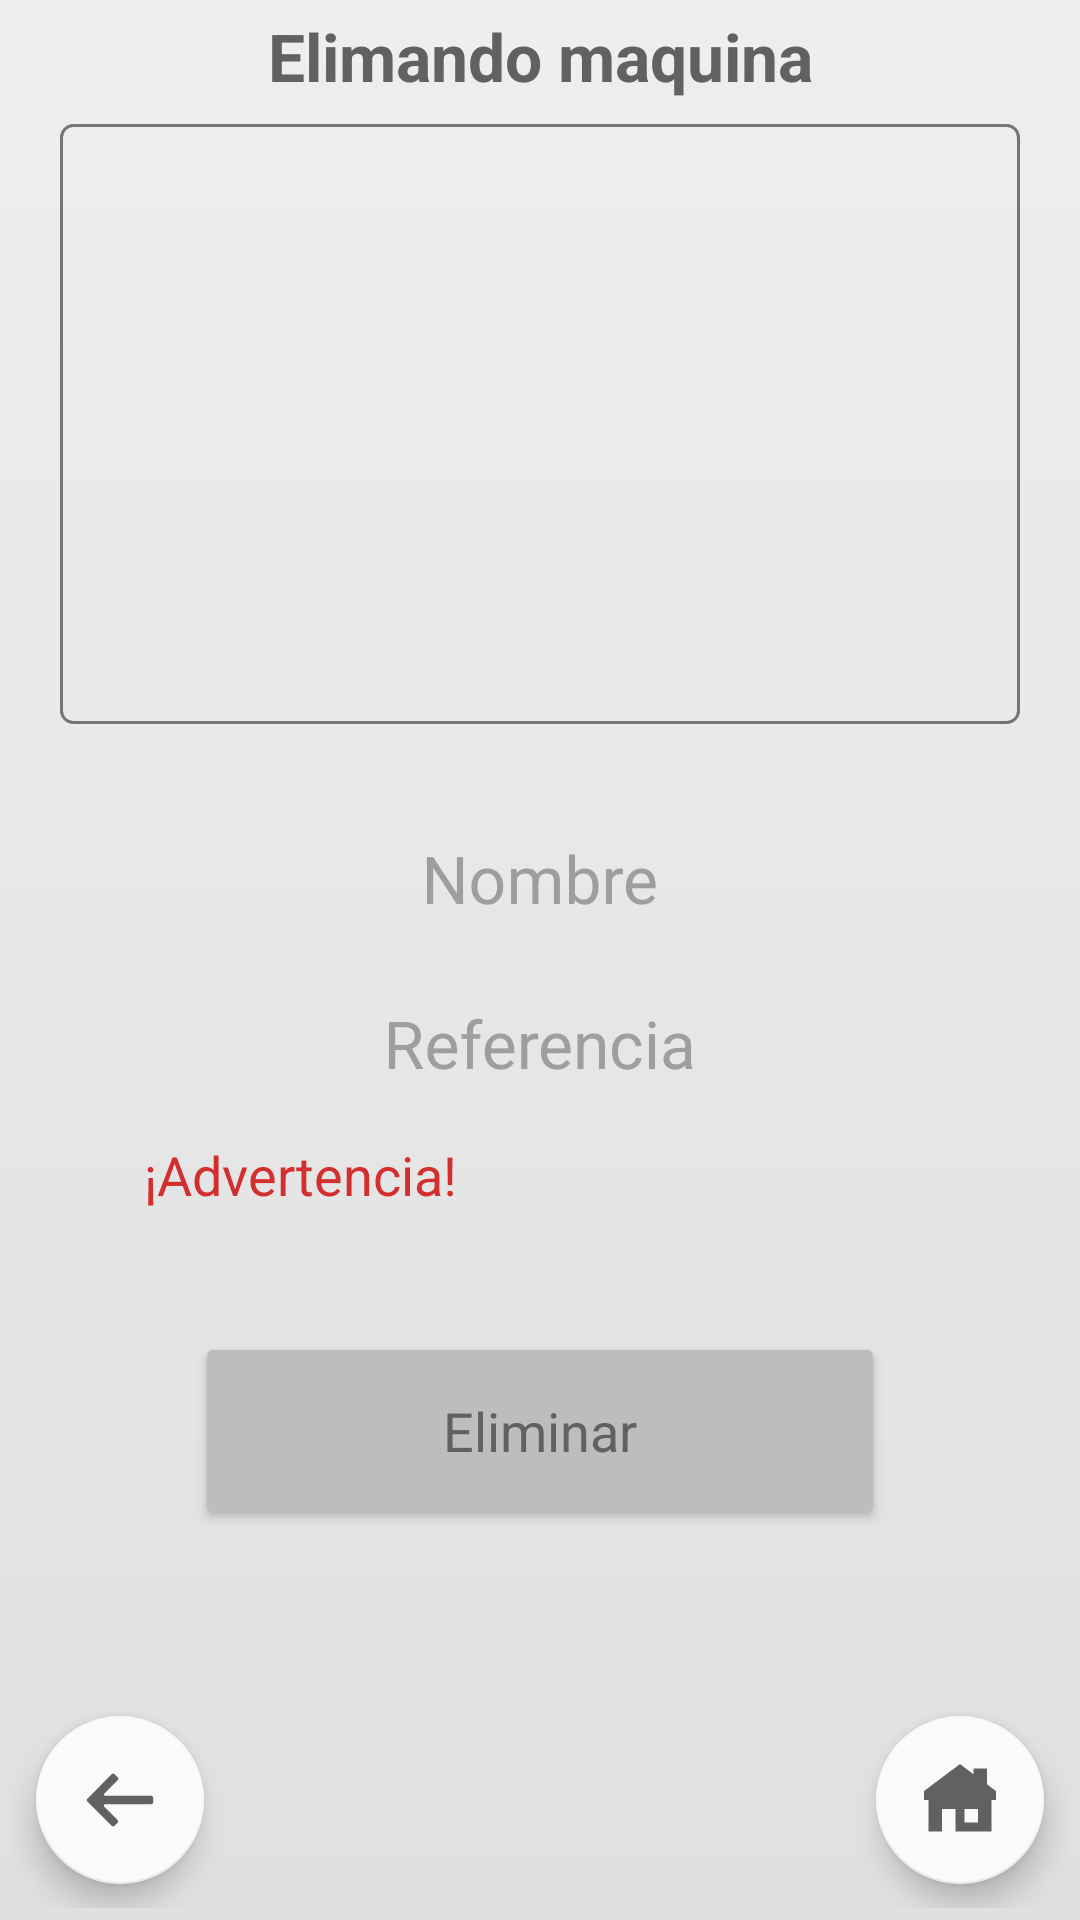

Named icons in this screenshot (1080×1920) and their centers, [x,y]:
Fab nav atrás: [119,1800]
Fab nav home: [959,1799]
